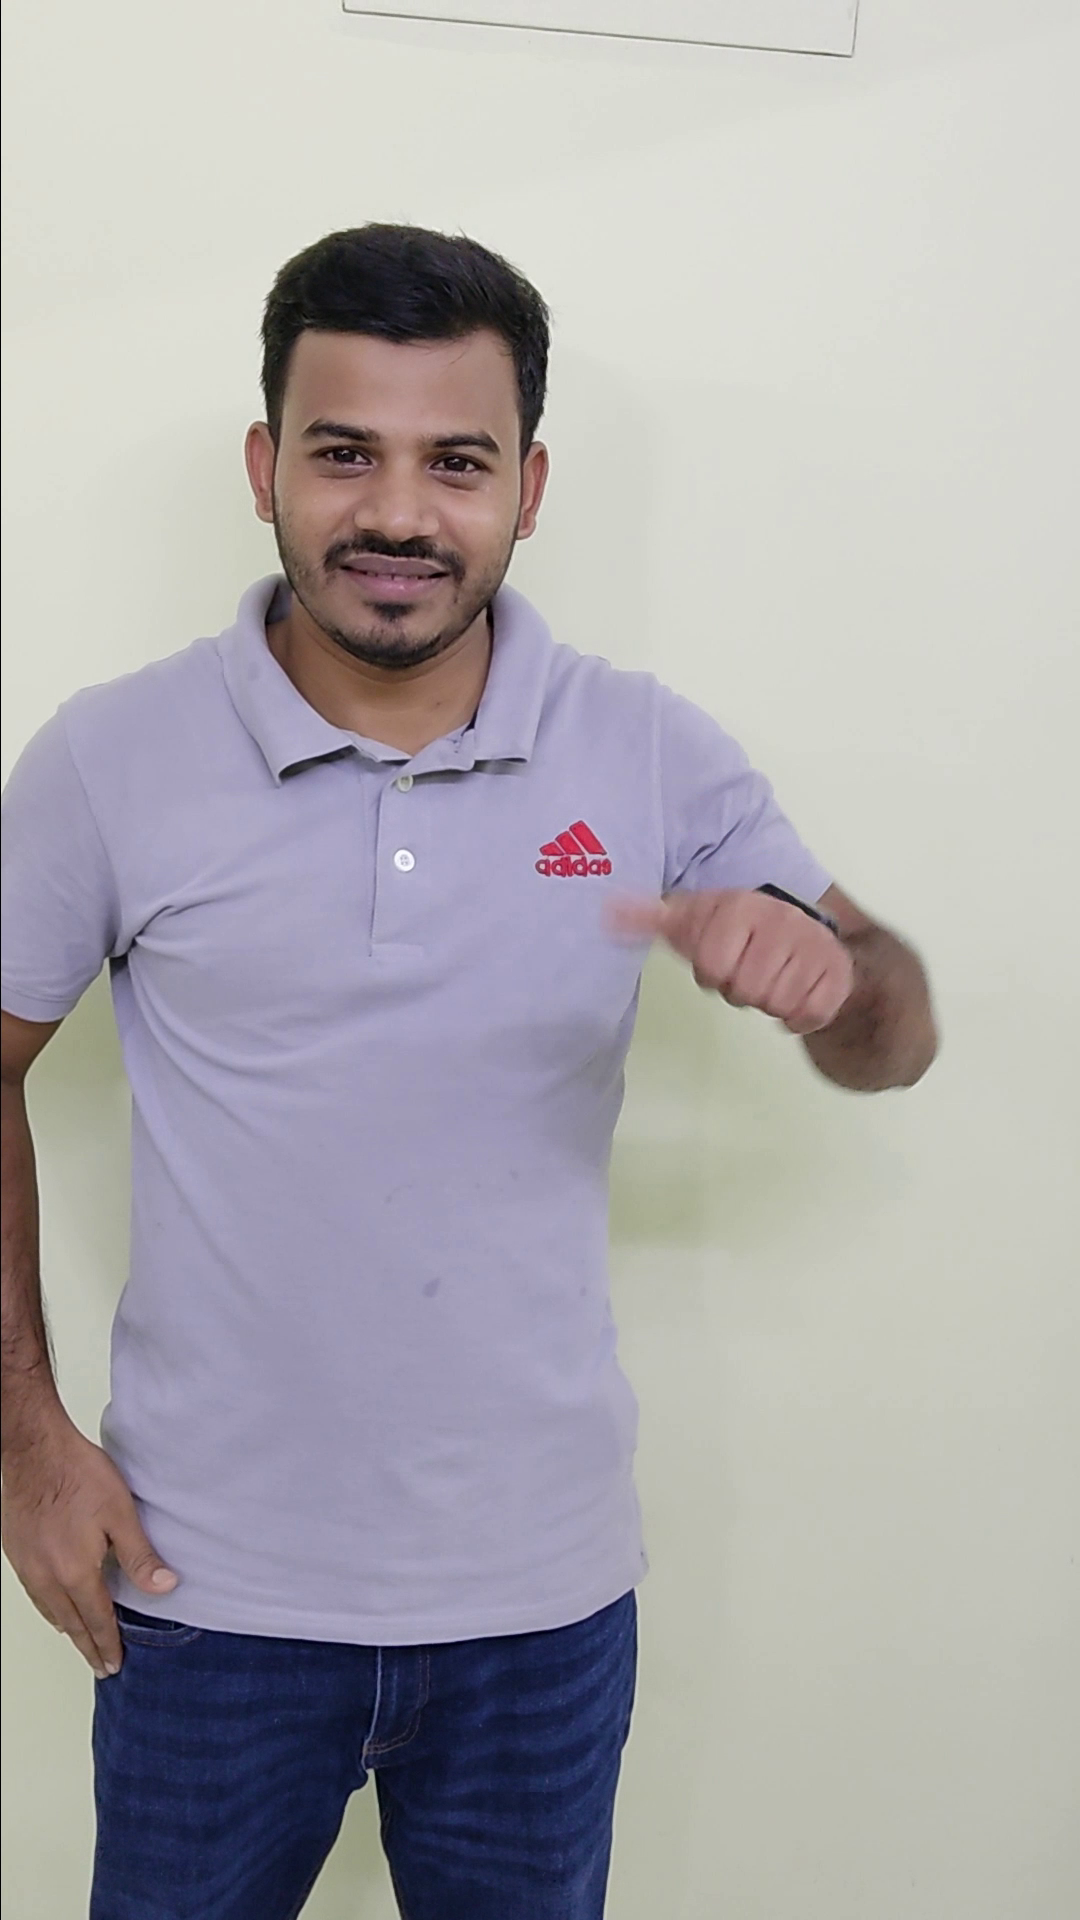Like: (595, 855, 870, 1054)
None: (3, 1393, 187, 1684)
